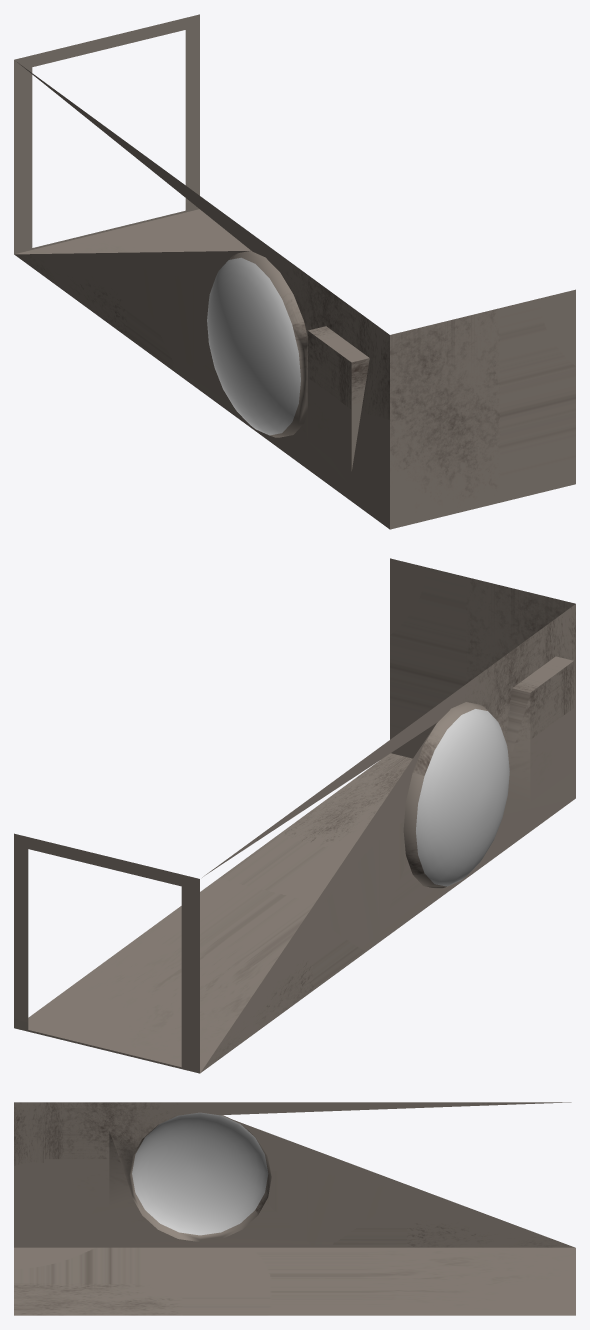
File: room 2 textured update.fbx
3 renders of one model, top to bottom at view 1: azimuth 30°, elevation 25°; view 2: azimuth 150°, elevation 25°; view 3: azimuth 270°, elevation 25°, orthographic. The views are drawn at different scales.
Visible parts, largest first — view 1: room_5; view 2: room_5; view 3: room_5.
Boxes of the visible parts, bbox=[...] form: room_5: bbox=[14, 14, 575, 529]; room_5: bbox=[14, 558, 575, 1073]; room_5: bbox=[14, 1102, 575, 1315].
Bounding box in the file's own units: 23.64 × 20 × 70.02.
